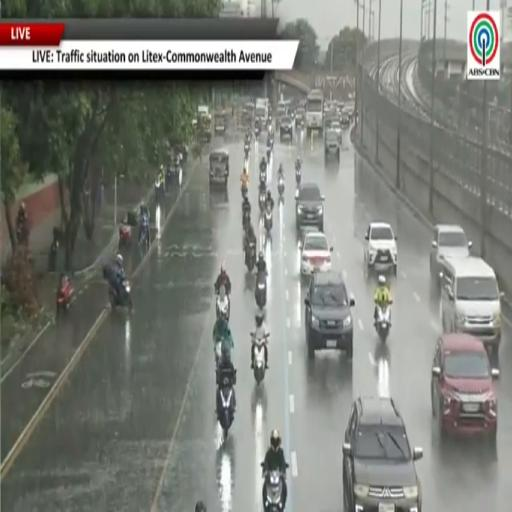bus: (306, 90, 323, 137)
car: (343, 397, 423, 511), (431, 333, 499, 442), (440, 256, 503, 357), (304, 270, 354, 359), (430, 224, 472, 283), (364, 221, 397, 275), (295, 183, 324, 231), (301, 232, 333, 275), (209, 149, 229, 187), (324, 128, 340, 162), (280, 117, 293, 141), (330, 120, 342, 142), (215, 112, 226, 134), (275, 107, 285, 129), (345, 102, 356, 121), (295, 107, 305, 126), (340, 107, 350, 126)
motorcycle: (251, 333, 269, 383), (218, 382, 234, 438), (264, 471, 284, 511), (109, 280, 132, 310), (57, 279, 73, 316), (216, 285, 230, 322), (376, 306, 390, 342), (255, 272, 266, 309), (215, 339, 227, 367), (17, 220, 29, 245), (119, 223, 131, 248), (140, 216, 149, 249), (245, 243, 255, 271), (155, 175, 164, 200), (264, 204, 272, 232), (259, 189, 266, 213), (243, 210, 250, 232), (278, 176, 284, 198), (259, 168, 266, 184), (296, 168, 301, 186), (242, 183, 248, 198), (245, 140, 249, 159), (255, 125, 260, 138), (267, 146, 271, 161)
truck: (255, 99, 269, 124)
